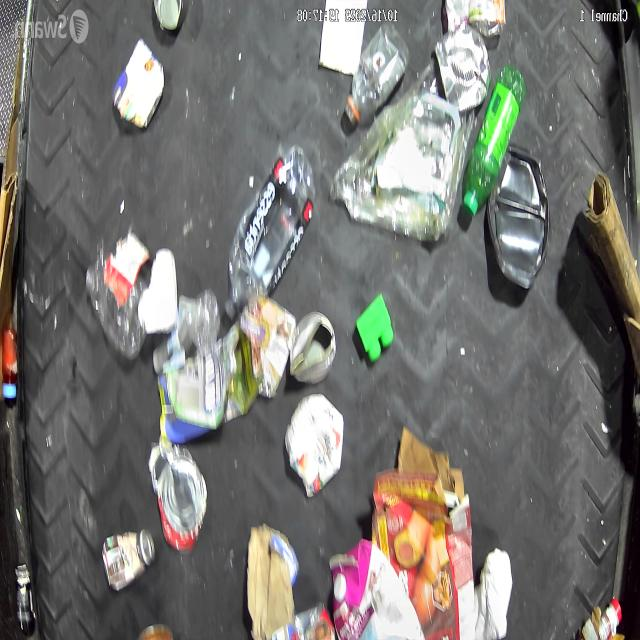can: (149, 443, 207, 551), (433, 19, 490, 112), (111, 36, 166, 128), (289, 312, 336, 384), (443, 0, 507, 39), (152, 0, 184, 32)
non_white_jug: (328, 538, 425, 640)
plastic_bottle: (329, 91, 466, 241), (222, 140, 317, 320), (462, 64, 528, 218), (342, 20, 410, 130), (85, 254, 149, 362), (150, 288, 220, 376)
